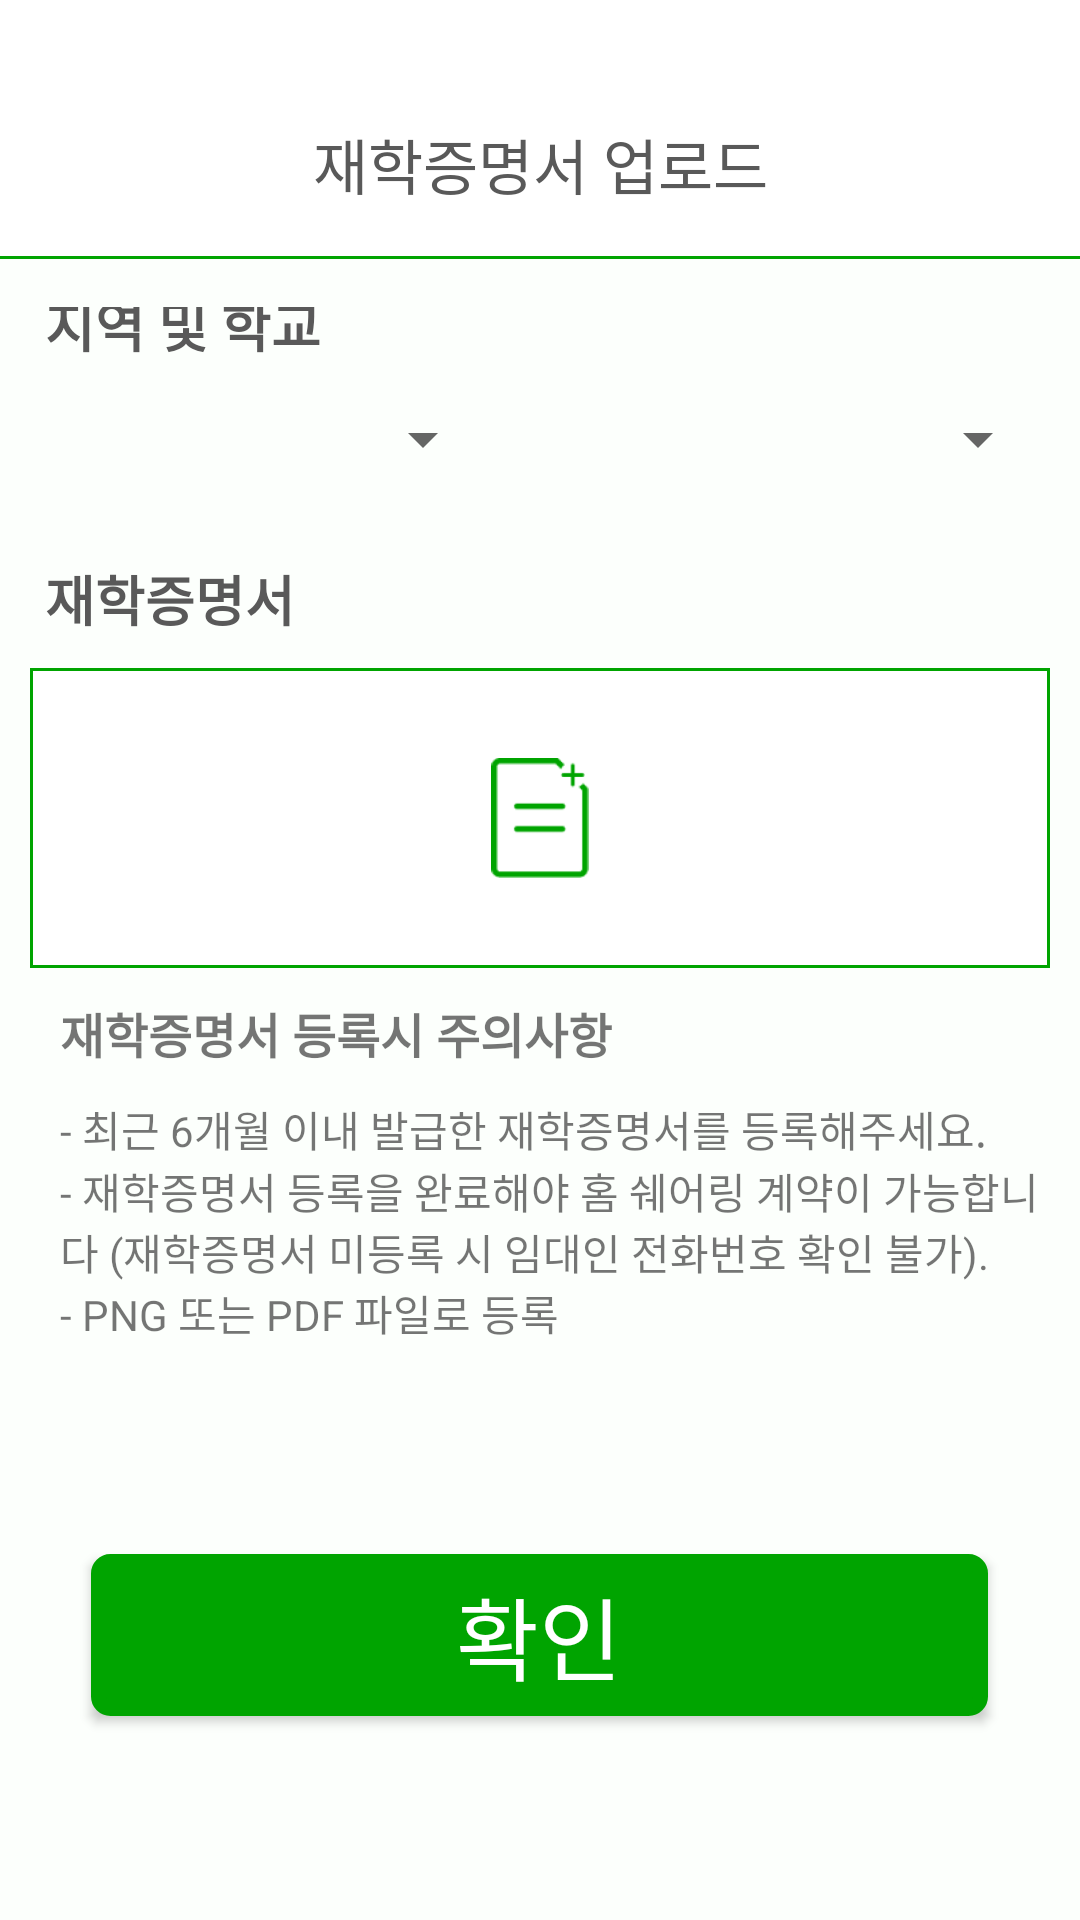

Icons on this 1080 × 1920 Android screen, each with its box as (x1, y1, x2, y2):
creditfile: (491, 758, 589, 878)
